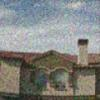chimneys: (75, 37, 90, 68)
